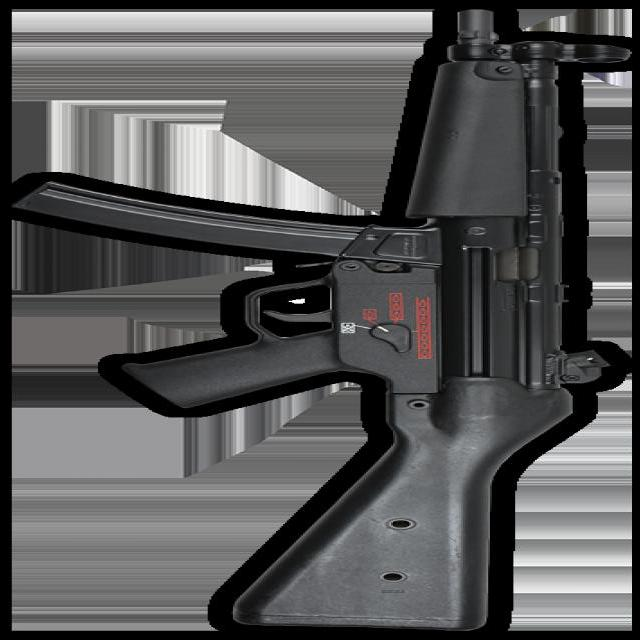smg: (19, 8, 619, 631)
